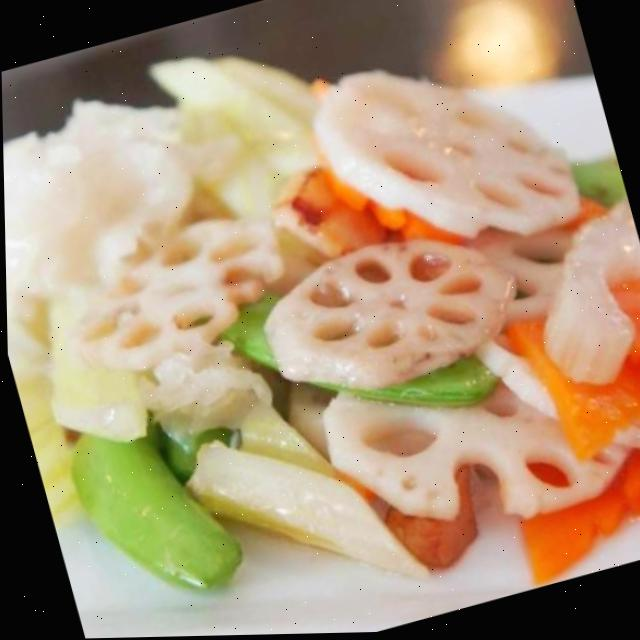蔬菜料理: (13, 33, 640, 640)
